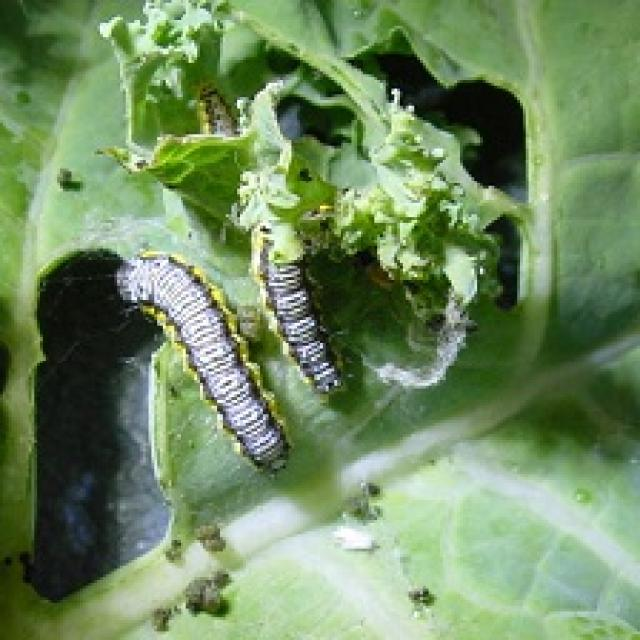Cabbage-worm: (107, 234, 321, 497), (237, 189, 389, 399), (180, 60, 247, 173)
